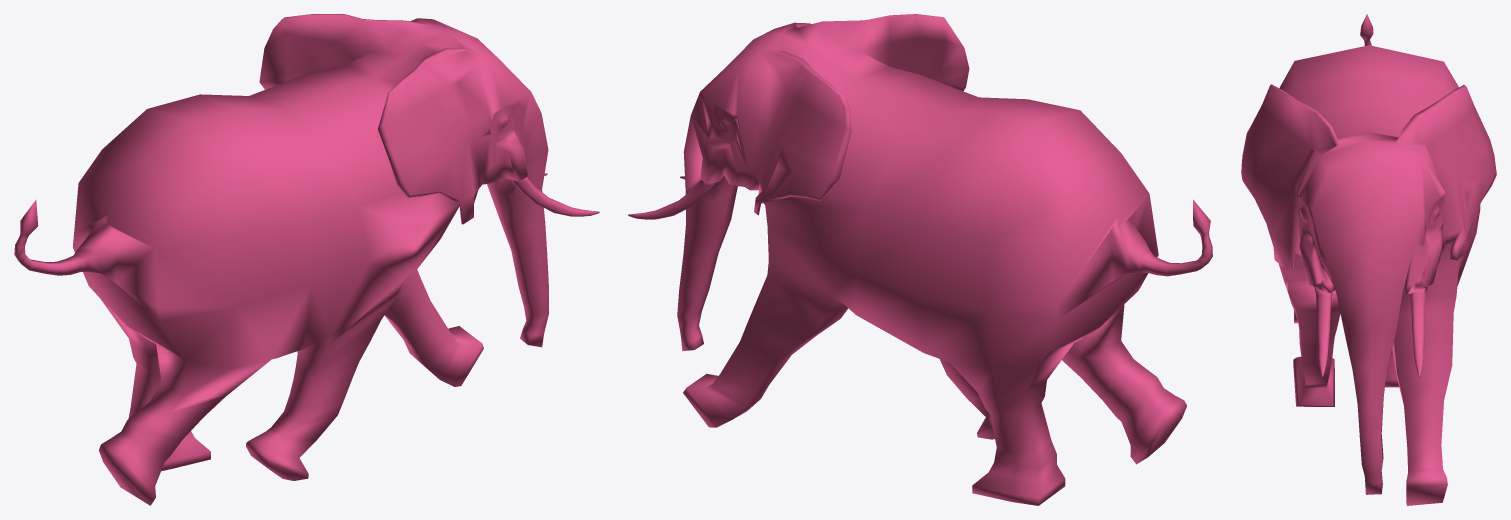
Rendered from Elephant.obj.
The picture shows the model from 3 angles, left to right: view 1: azimuth 30°, elevation 25°; view 2: azimuth 150°, elevation 25°; view 3: azimuth 270°, elevation 25°; orthographic projection. The views are drawn at different scales.
Parts seen in each view (by area): view 1: Box001; view 2: Box001; view 3: Box001.
Boxes of the visible parts, x1=… form: Box001: x1=14, y1=14, x2=599, y2=505; Box001: x1=628, y1=14, x2=1212, y2=505; Box001: x1=1241, y1=14, x2=1496, y2=505.
Bounding box in the file's own units: 166 × 110 × 70.6.
